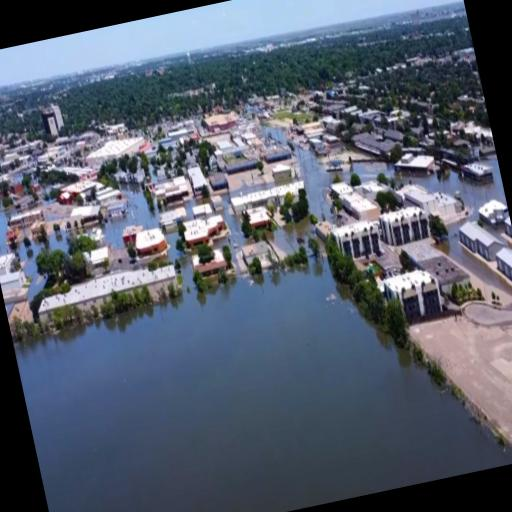flood: (13, 254, 512, 512), (13, 257, 512, 512), (416, 154, 507, 216), (101, 186, 158, 247), (295, 145, 333, 219), (17, 239, 43, 295), (221, 192, 240, 243), (354, 160, 393, 178), (47, 219, 65, 248), (0, 206, 6, 252), (166, 231, 177, 256), (261, 124, 284, 135)
house: (36, 264, 181, 326), (377, 260, 448, 337), (328, 213, 388, 274), (380, 196, 436, 250), (326, 170, 380, 226), (84, 131, 148, 170), (122, 217, 172, 265), (392, 138, 440, 186), (460, 218, 506, 268), (181, 208, 231, 250), (188, 244, 232, 290), (352, 122, 396, 166), (238, 232, 280, 277), (458, 152, 498, 192), (474, 194, 512, 235), (240, 198, 275, 238), (154, 174, 191, 211), (37, 100, 68, 142), (202, 106, 242, 138), (158, 204, 191, 238), (4, 294, 34, 330), (494, 243, 512, 299), (67, 202, 103, 227), (186, 169, 212, 201), (269, 156, 296, 186), (0, 251, 21, 283), (28, 216, 50, 242), (105, 200, 128, 222), (54, 186, 74, 210), (4, 220, 22, 246), (190, 200, 212, 220), (210, 196, 226, 214), (503, 214, 512, 243)
